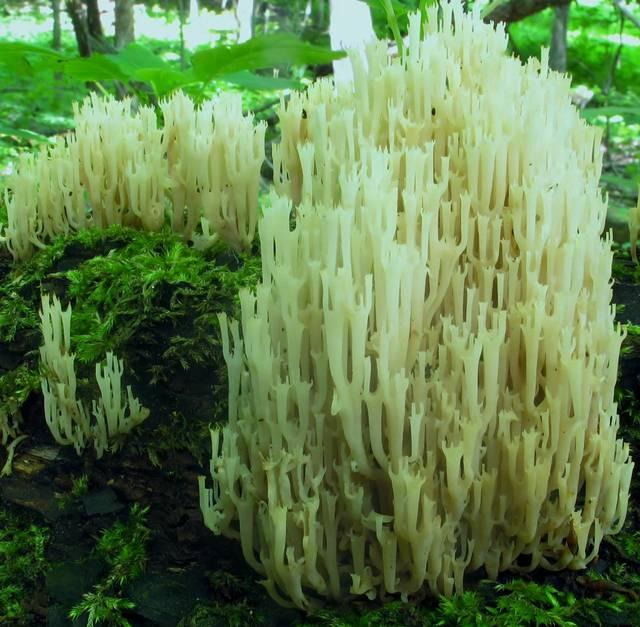edible_mushroom: (196, 0, 635, 612), (0, 87, 267, 262), (35, 288, 150, 459)
